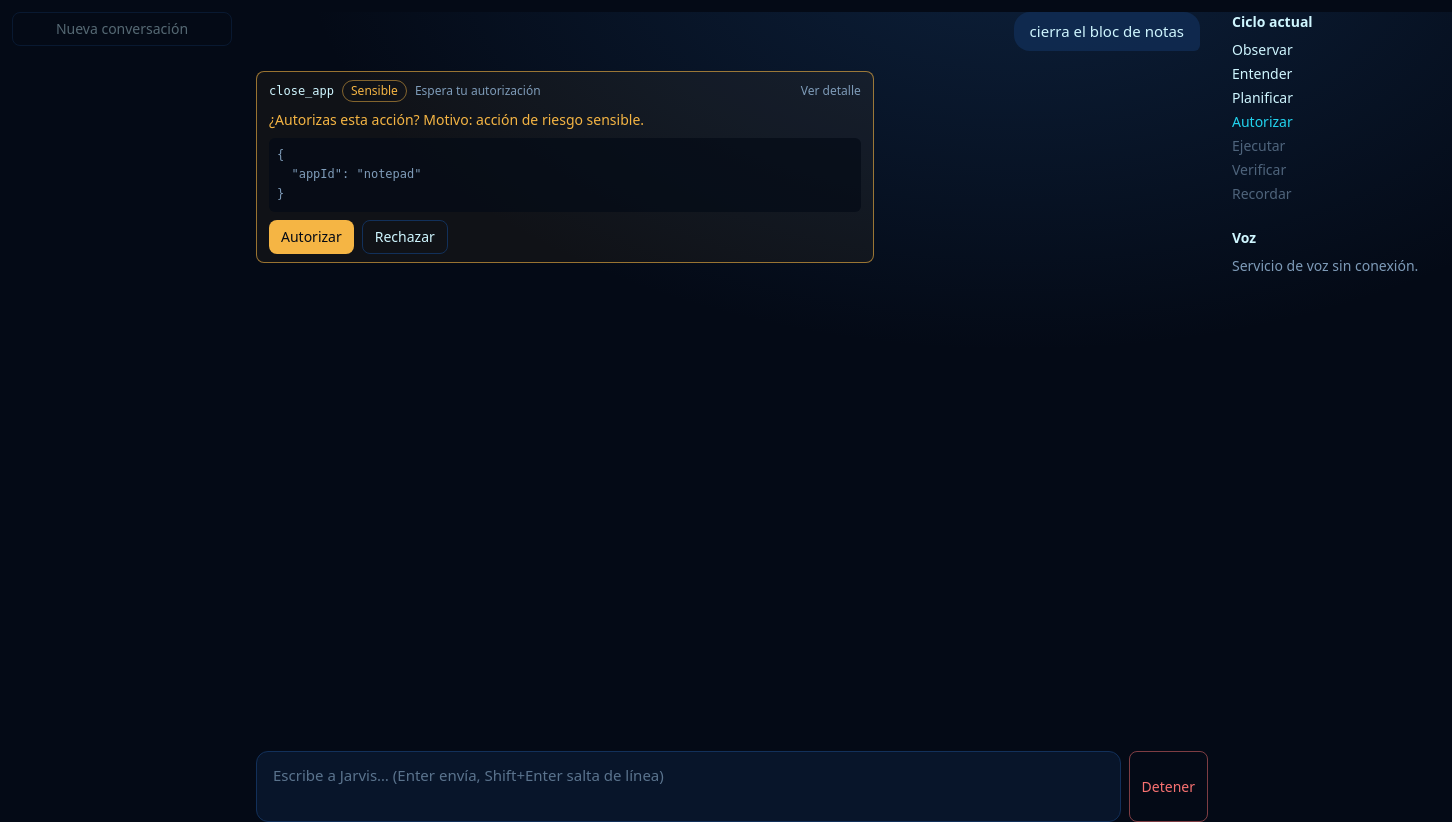
it: ChatScreen › pide autorización y ejecuta al aprobar
Step 1. Click the button "Autorizar" → (311, 237), box [269,220,354,254]
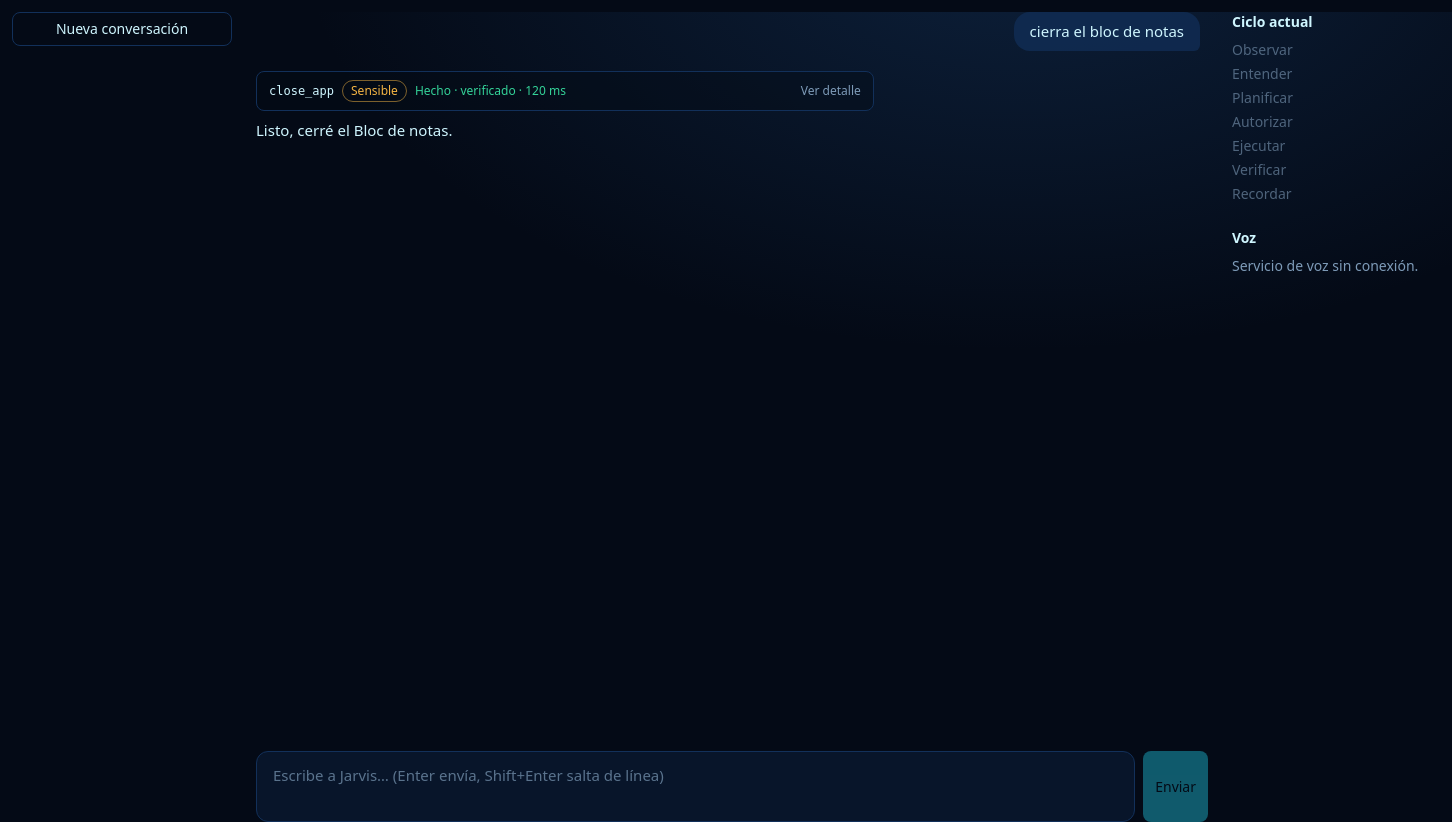
Result: the text "Listo, cerré el Bloc de notas." is shown at [256,120,452,140]
Result: the text "Hecho · verificado · 120 ms" is shown at [415,82,566,98]
